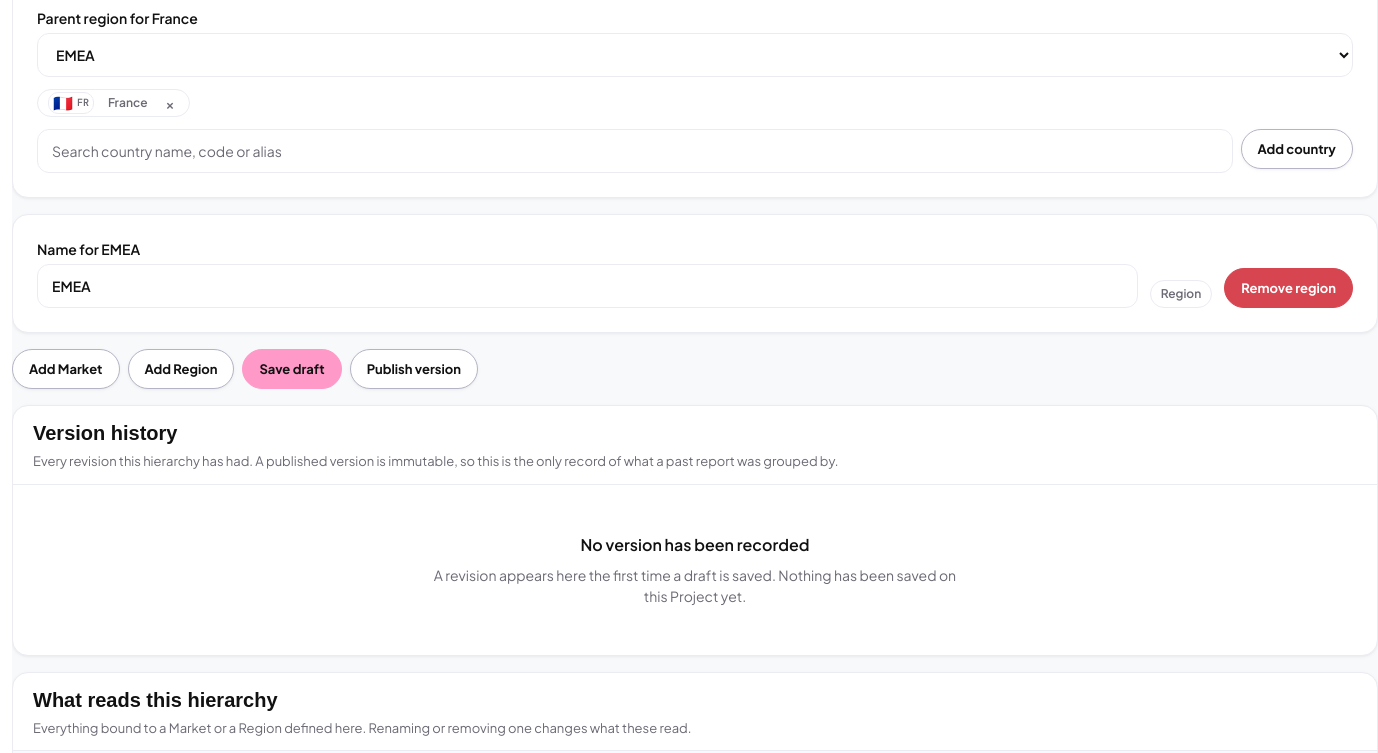
Country Governance workspace › renders named used-by impacts before an acknowledged retry
(page scrolled)
Click the button "Save draft".
click(292, 369)  # box [242,349,342,389]
(page scrolled)
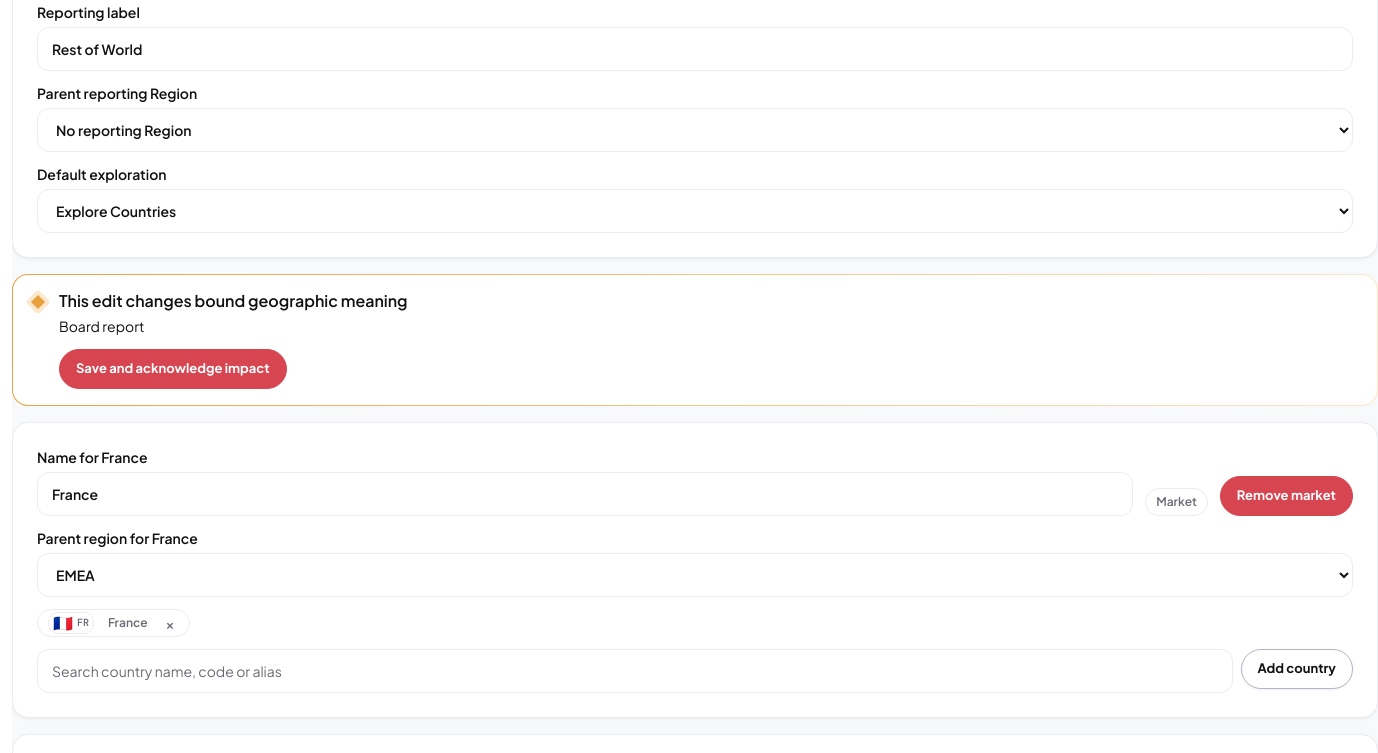
Result: the list item "Board report" is shown at [59,317,144,335]
Result: the button "Save and acknowledge impact" is shown at [59,349,287,389]
